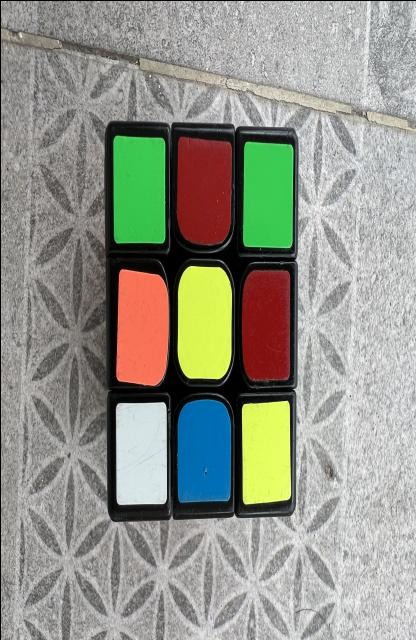Blue: (176, 398, 230, 502)
Green: (112, 135, 164, 243), (242, 140, 292, 247)
Orange: (115, 268, 168, 385)
Red: (176, 135, 231, 243), (240, 270, 289, 380)
White: (115, 402, 166, 503)
Yellow: (176, 265, 232, 378), (240, 400, 290, 503)
